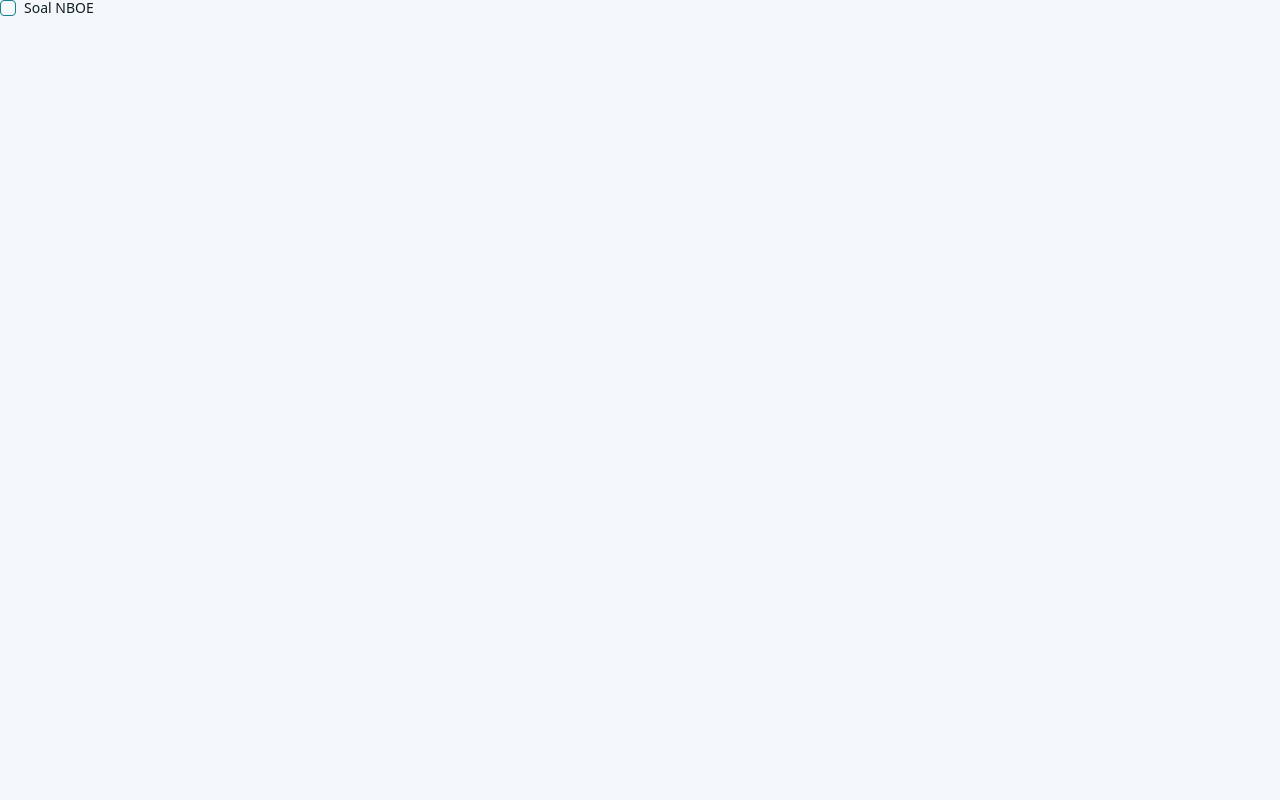
Test: NBOE case marker › keeps the saved value unchanged when saving fails
Later steps or results of the test are not shown.
Click the checkbox.
click(8, 8)  # box [0,0,16,16]
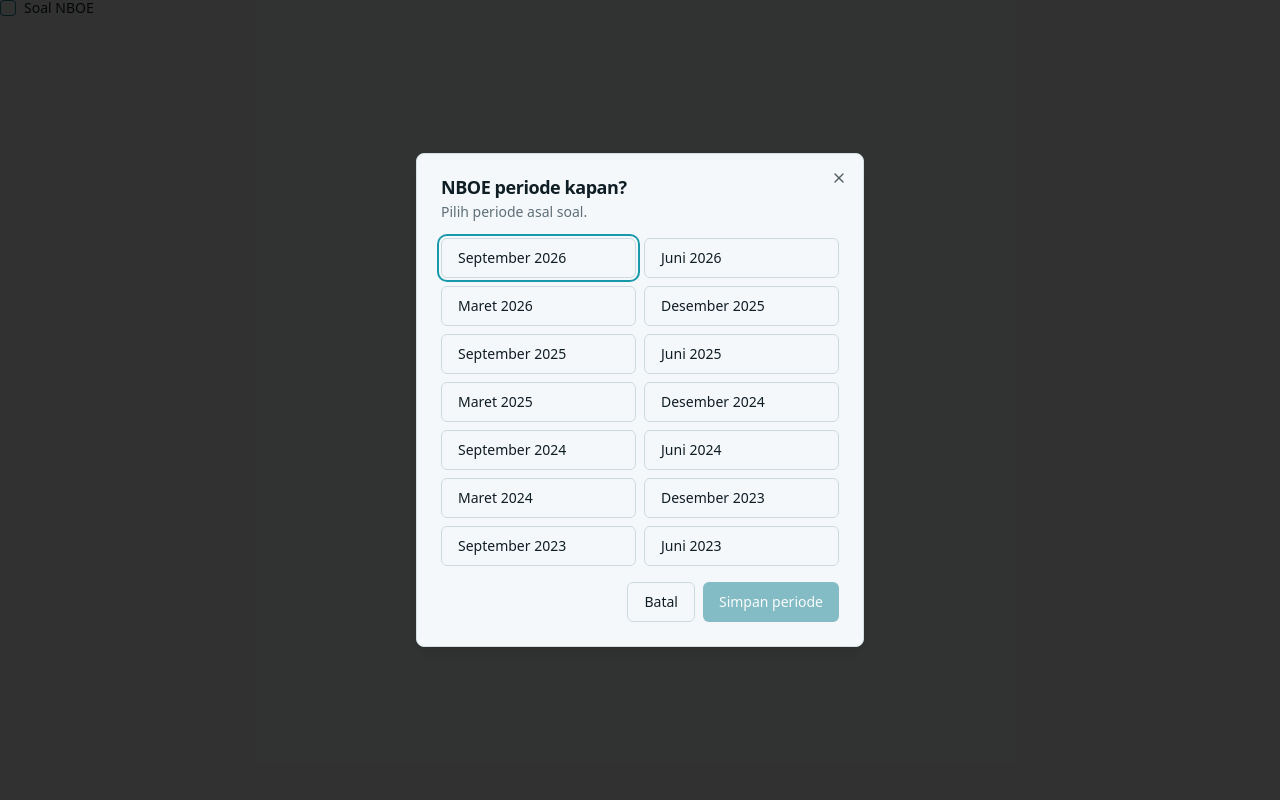
Click the button "Juni 2023".
click(742, 546)  # box [644,526,839,566]
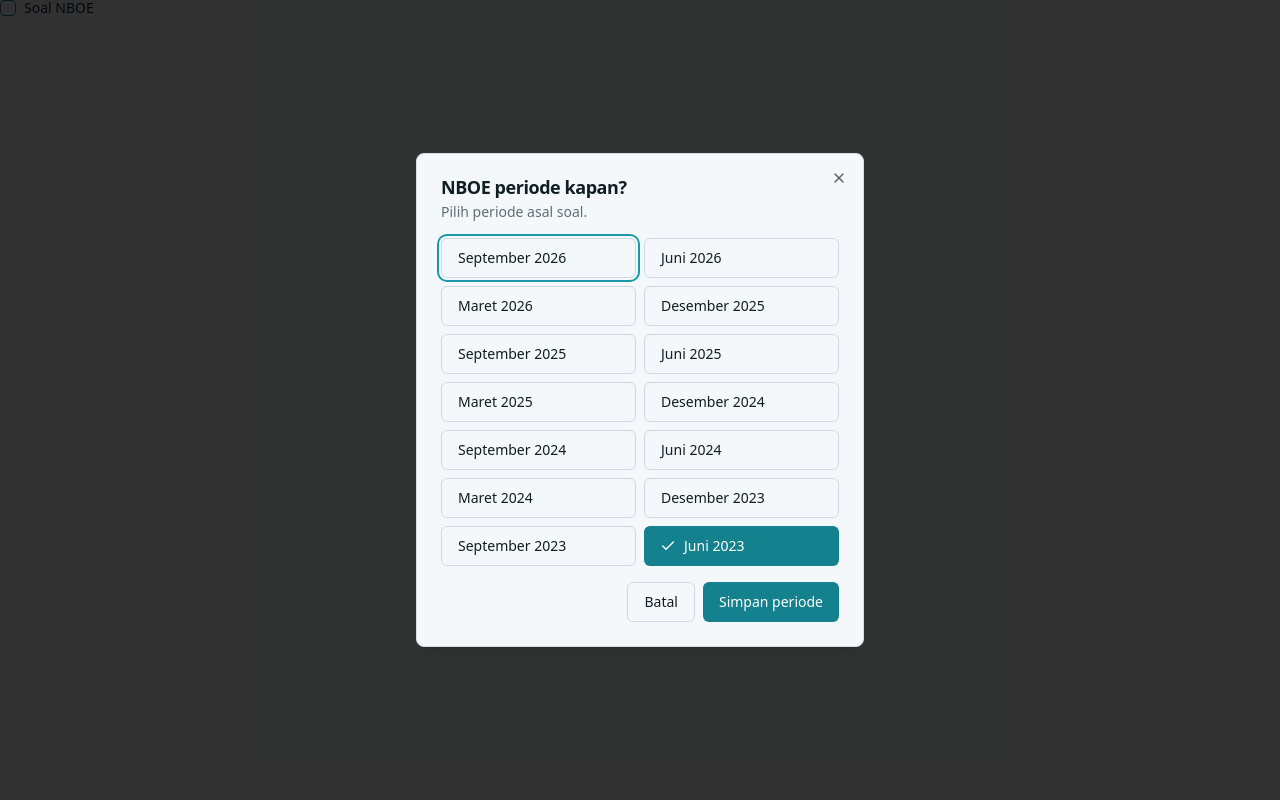
Click the button "Simpan periode".
click(771, 602)  # box [703,582,839,622]
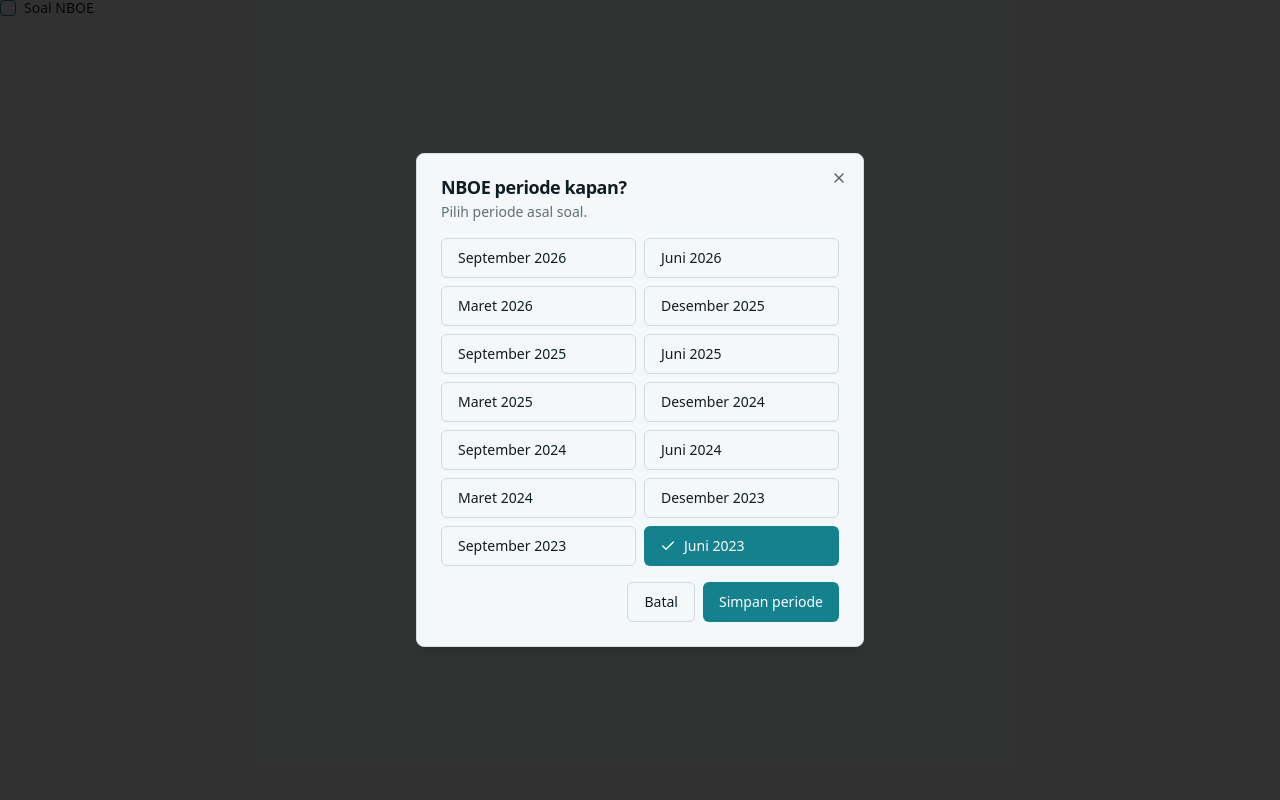
Check: the button "Batal" is enabled, box [628,582,695,622]
